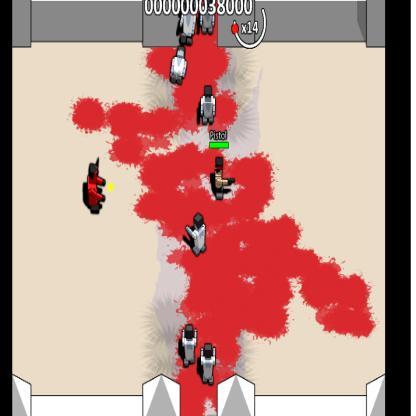agent: (214, 157, 226, 201)
ball: (106, 182, 114, 194)
boss: (86, 162, 105, 214)
jombie: (192, 209, 208, 257), (199, 341, 215, 386), (182, 323, 198, 367), (200, 86, 216, 126), (200, 3, 214, 34)
